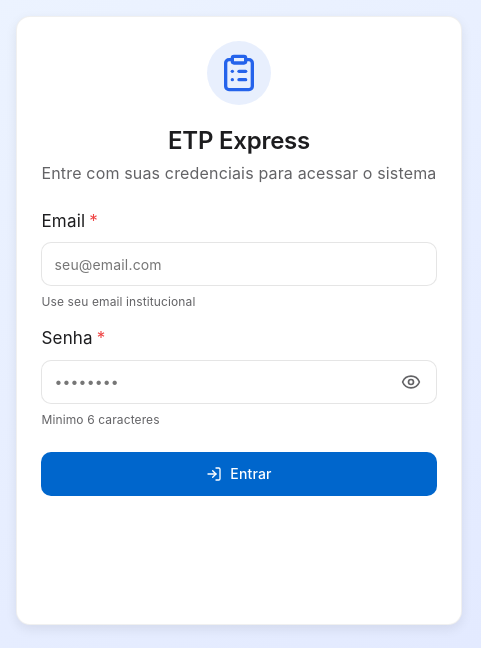
Test case: Login › Real-time Validation › should show check icon for valid email after debounce
Type "test@example.com" into the field labelled "Email *" at {"x": 239, "y": 264}, box [42,242,436,286]
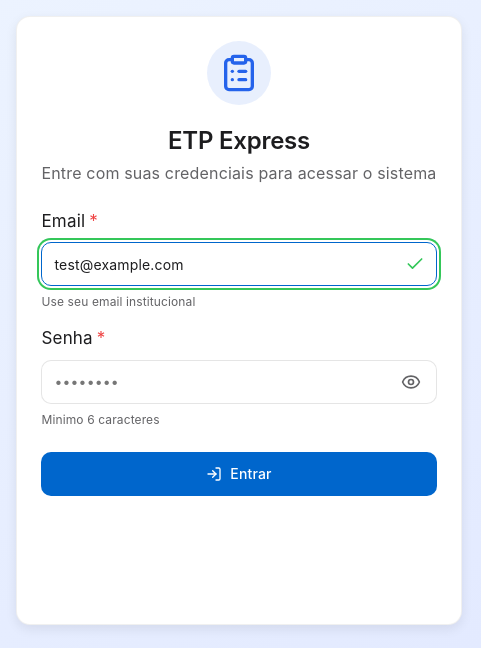
Check: the icon with test id "validation-check" is shown, box [404,254,424,274]
